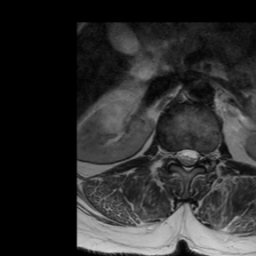CCS_normal: (183, 139, 191, 177)
LFS_normal: (200, 140, 209, 169)
LLS_normal: (191, 140, 200, 170)
RFS_normal: (167, 141, 175, 169)
RLS_normal: (175, 139, 183, 171)
